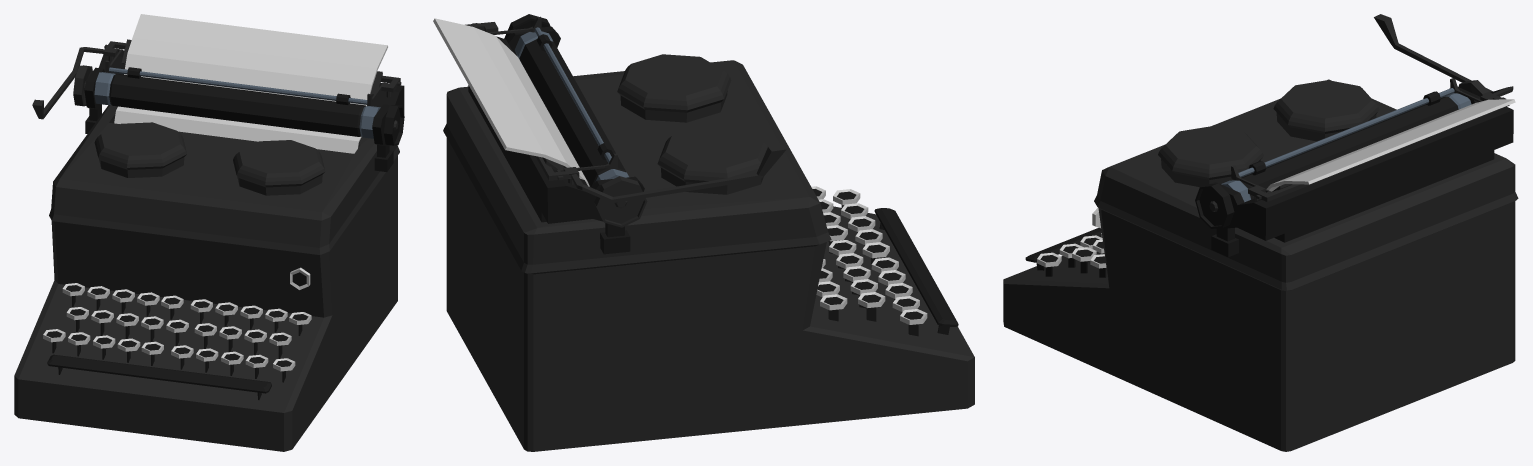
File: typing machine.fbx
3 renders of one model, left to right at view 1: azimuth 30°, elevation 25°; view 2: azimuth 150°, elevation 25°; view 3: azimuth 270°, elevation 25°, orthographic. The views are drawn at different scales.
Parts seen in each view (by area): view 1: typing machine; view 2: typing machine; view 3: typing machine.
Boxes of the visible parts, x1,y1,x2,y2 form: typing machine: (14,14,404,451); typing machine: (433,14,974,451); typing machine: (1003,14,1518,451).
Bounding box in the file's own units: 45.72 × 26.28 × 45.32.
